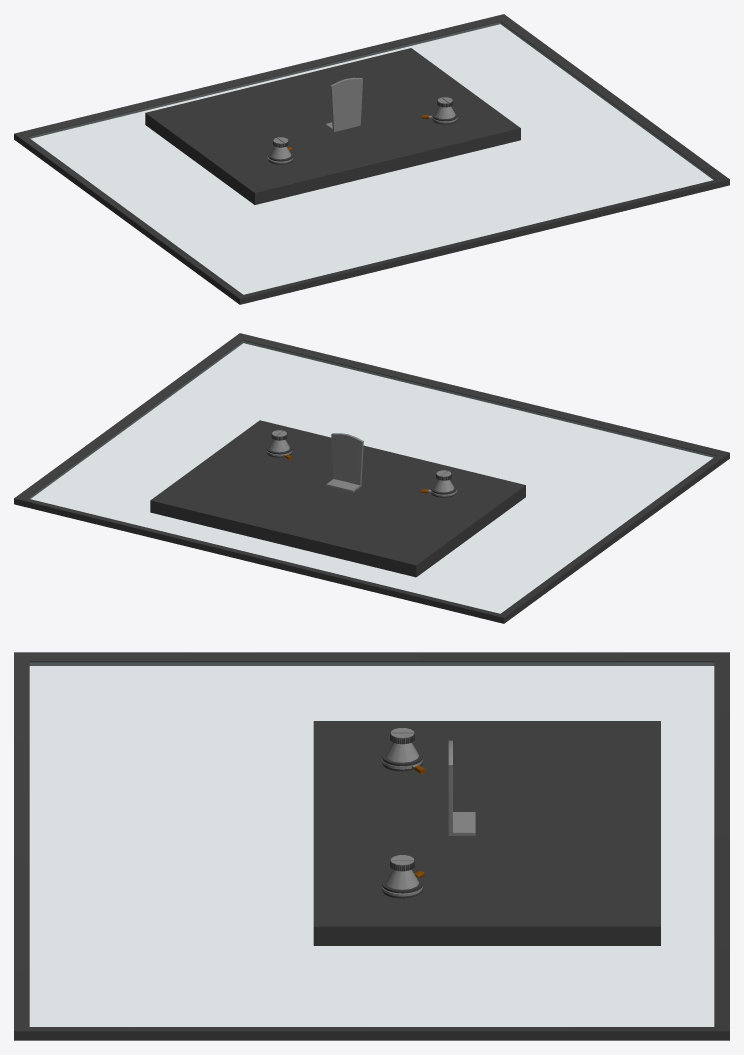
The picture shows the model from 3 angles, top to bottom: view 1: azimuth 30°, elevation 25°; view 2: azimuth 150°, elevation 25°; view 3: azimuth 270°, elevation 25°; orthographic projection. The views are drawn at different scales.
Parts seen in each view (by area): view 1: Plate_01; view 2: Plate_01; view 3: Plate_01.
Boxes of the visible parts, box(x1,y1,x2,y2) form: Plate_01: box(14, 14, 729, 304); Plate_01: box(14, 333, 729, 623); Plate_01: box(14, 652, 729, 1040).
Size of the model in its own units: 28.79 by 3.65 by 22.99.
